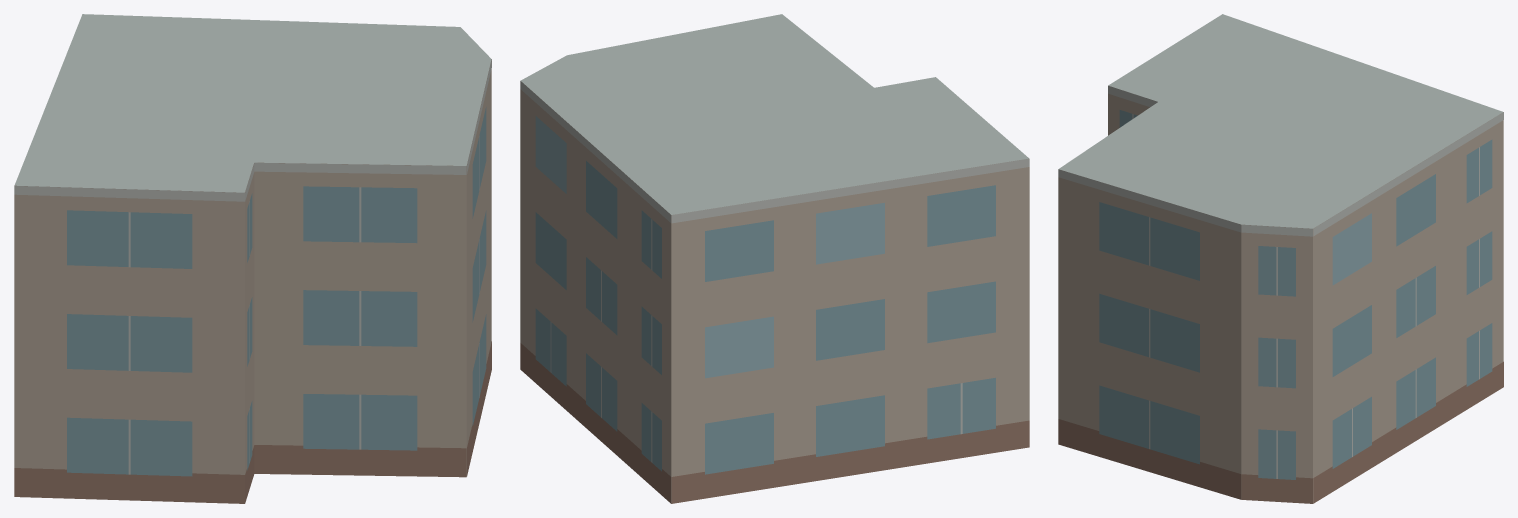
File: survey-upis-32934233.glb
3 views of the same model, side by side, from view 1: azimuth 30°, elevation 25°; view 2: azimuth 150°, elevation 25°; view 3: azimuth 270°, elevation 25° (orthographic). The views are drawn at different scales.
Parts seen in each view (by area): view 1: survey-upis-32934233.tmp; view 2: survey-upis-32934233.tmp; view 3: survey-upis-32934233.tmp.
Part boxes in pixels (<box>): survey-upis-32934233.tmp: <box>14,14,491,503</box>; survey-upis-32934233.tmp: <box>520,14,1029,503</box>; survey-upis-32934233.tmp: <box>1058,14,1503,503</box>.
Bounding box in the file's own units: 14.06 × 8.4 × 12.33.
